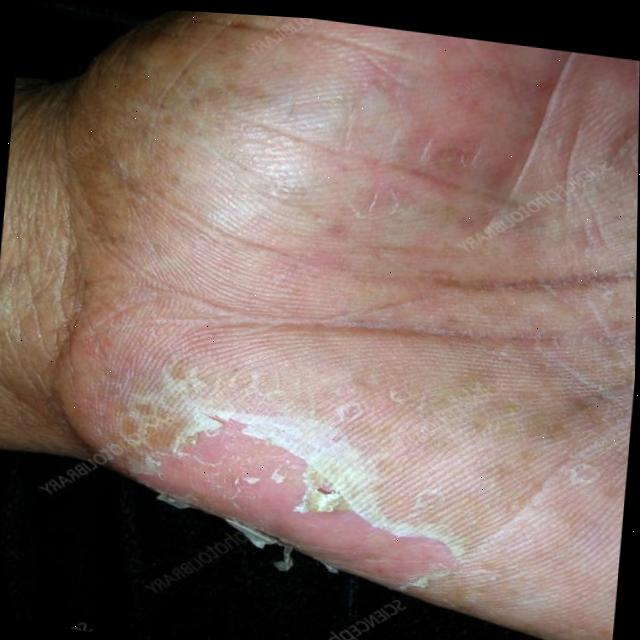Eczema: (90, 75, 517, 570)
